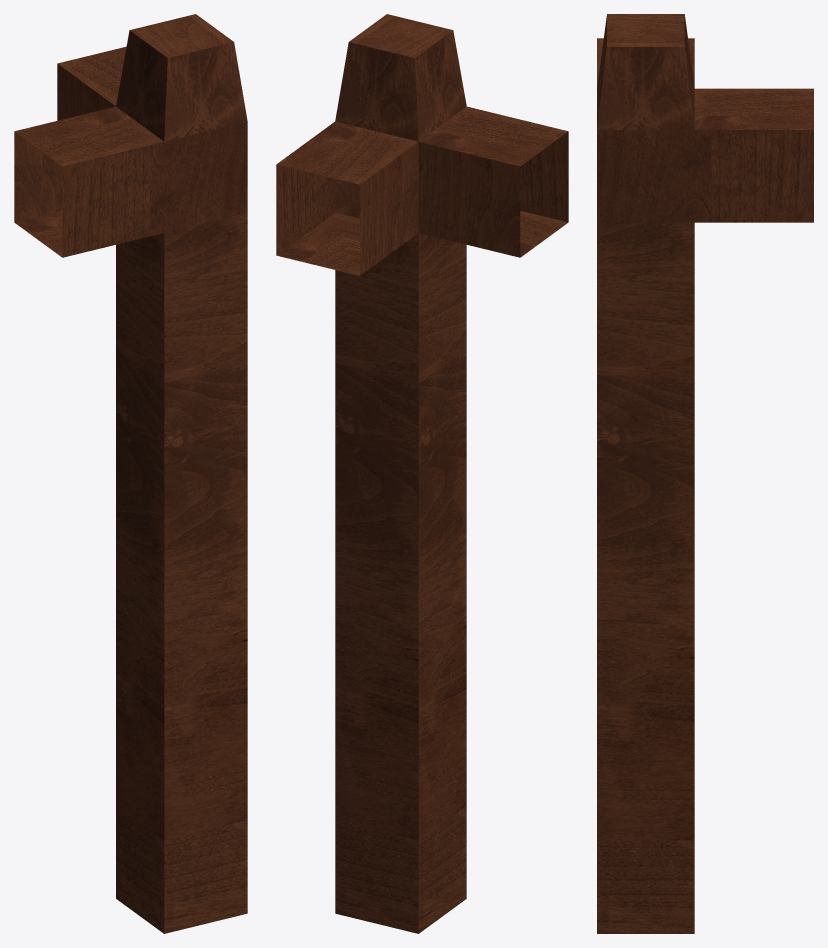
The model's file is Corner.FBX.
3 views of the same model, side by side, from view 1: azimuth 30°, elevation 25°; view 2: azimuth 150°, elevation 25°; view 3: azimuth 270°, elevation 25° (orthographic).
Parts seen in each view (by area): view 1: Corner; view 2: Corner; view 3: Corner.
Boxes of the visible parts, left/top/right/bottom form: Corner: left=14, top=14, right=247, bottom=933; Corner: left=276, top=14, right=568, bottom=933; Corner: left=597, top=14, right=813, bottom=933.
Bounding box in the file's own units: 59.27 × 266 × 59.27.
